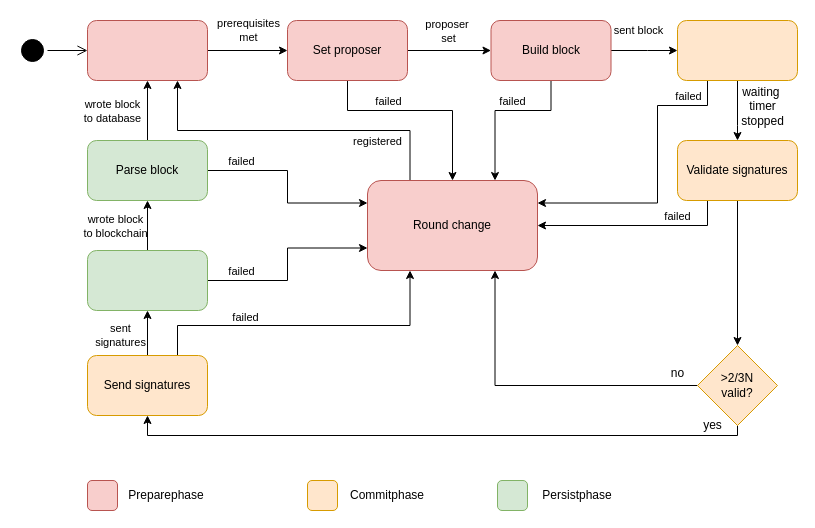
This 815x528 diagram has some shape labels left out. Each missing label, with the centre of its shape:
"New round" goes at point (147, 50).
"Persist block" goes at point (147, 280).
"Wait for signatures" goes at point (737, 50).
